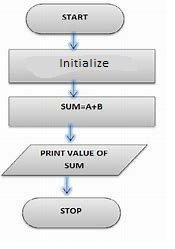arrow: (61, 176, 73, 196), (67, 31, 79, 51), (67, 78, 78, 98), (64, 124, 75, 143)
data: (1, 143, 149, 178)
process: (6, 47, 157, 85), (7, 95, 157, 128)
terminator: (24, 2, 126, 36), (21, 196, 122, 230)
text: (39, 148, 108, 169), (58, 57, 109, 68), (59, 102, 103, 111), (61, 12, 89, 22), (59, 206, 82, 215)
